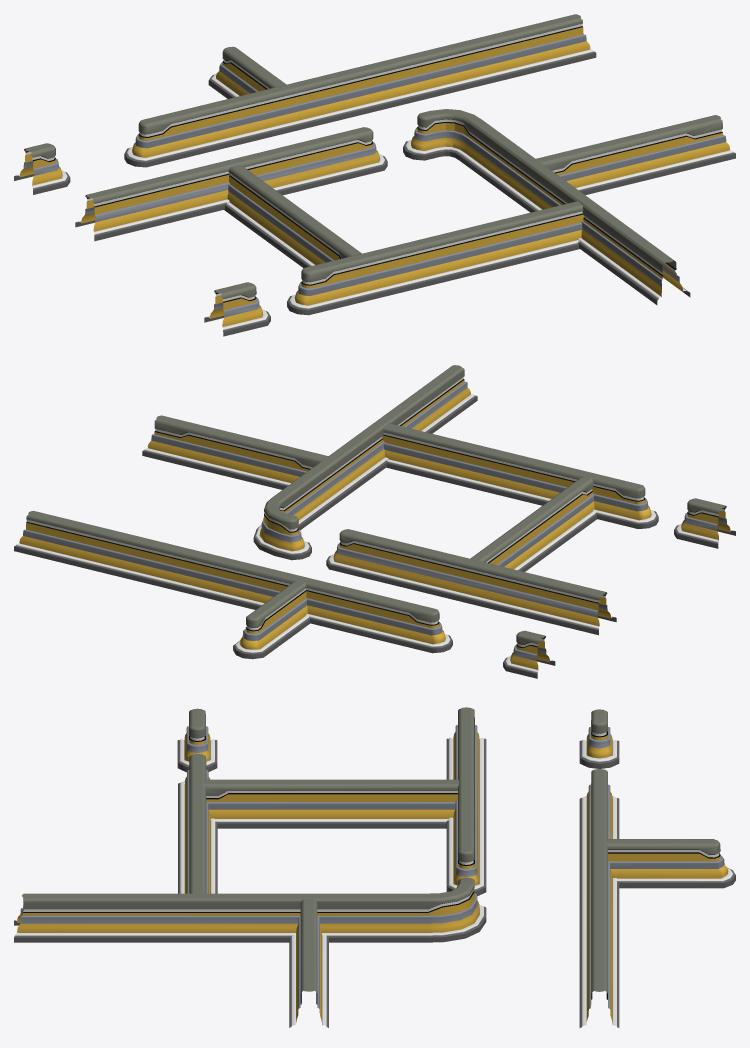
Rendered from Level42_Small_walls.fbx.
The picture shows the model from 3 angles, top to bottom: view 1: azimuth 30°, elevation 25°; view 2: azimuth 150°, elevation 25°; view 3: azimuth 270°, elevation 25°; orthographic projection. The views are drawn at different scales.
Parts seen in each view (by area): view 1: Small_wallv1_53, Small_wallv1_55, Small_wall_L67, Small_wallv1_57, Small_wallv1_48, Small_wallv1_20, Small_wallv1_56, Small_wallv1_54, Small_wallv1_50; view 2: Small_wallv1_53, Small_wallv1_57, Small_wallv1_55, Small_wall_L67, Small_wallv1_48, Small_wallv1_20, Small_wallv1_54, Small_wallv1_56, Small_wallv1_50; view 3: Small_wall_L67, Small_wallv1_20, Small_wallv1_53, Small_wallv1_57, Small_wallv1_54, Small_wallv1_55, Small_wallv1_48, Small_wallv1_50, Small_wallv1_56.
Part boxes in pixels (x1,y1,x2,y2): Small_wallv1_53: [124, 14, 596, 167]; Small_wallv1_55: [287, 201, 583, 315]; Small_wall_L67: [403, 109, 690, 304]; Small_wallv1_57: [75, 127, 387, 241]; Small_wallv1_48: [536, 115, 735, 194]; Small_wallv1_20: [224, 164, 361, 268]; Small_wallv1_56: [204, 282, 270, 336]; Small_wallv1_54: [208, 46, 286, 98]; Small_wallv1_50: [14, 143, 70, 194]; Small_wallv1_53: [14, 511, 452, 653]; Small_wallv1_57: [326, 529, 616, 635]; Small_wallv1_55: [382, 423, 658, 528]; Small_wall_L67: [253, 365, 477, 560]; Small_wallv1_48: [142, 415, 328, 489]; Small_wallv1_20: [470, 476, 596, 571]; Small_wallv1_54: [233, 580, 309, 659]; Small_wallv1_56: [674, 498, 735, 548]; Small_wallv1_50: [503, 630, 555, 678]; Small_wall_L67: [14, 877, 486, 942]; Small_wallv1_20: [204, 779, 458, 828]; Small_wallv1_53: [579, 769, 619, 1027]; Small_wallv1_57: [446, 707, 486, 895]; Small_wallv1_54: [605, 839, 735, 888]; Small_wallv1_55: [178, 754, 217, 893]; Small_wallv1_48: [289, 899, 328, 1027]; Small_wallv1_50: [579, 709, 619, 768]; Small_wallv1_56: [177, 708, 217, 772].
Bounding box in the file's own units: 592 × 38.41 × 625.
